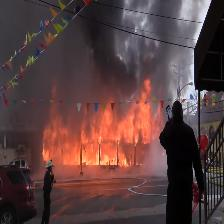fire: (43, 117, 148, 166)
smoke: (5, 3, 109, 93)
